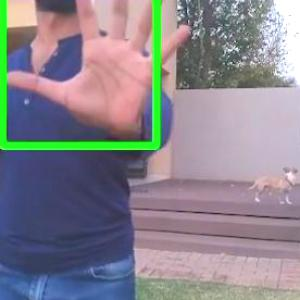follow_hand: (0, 0, 197, 140)
